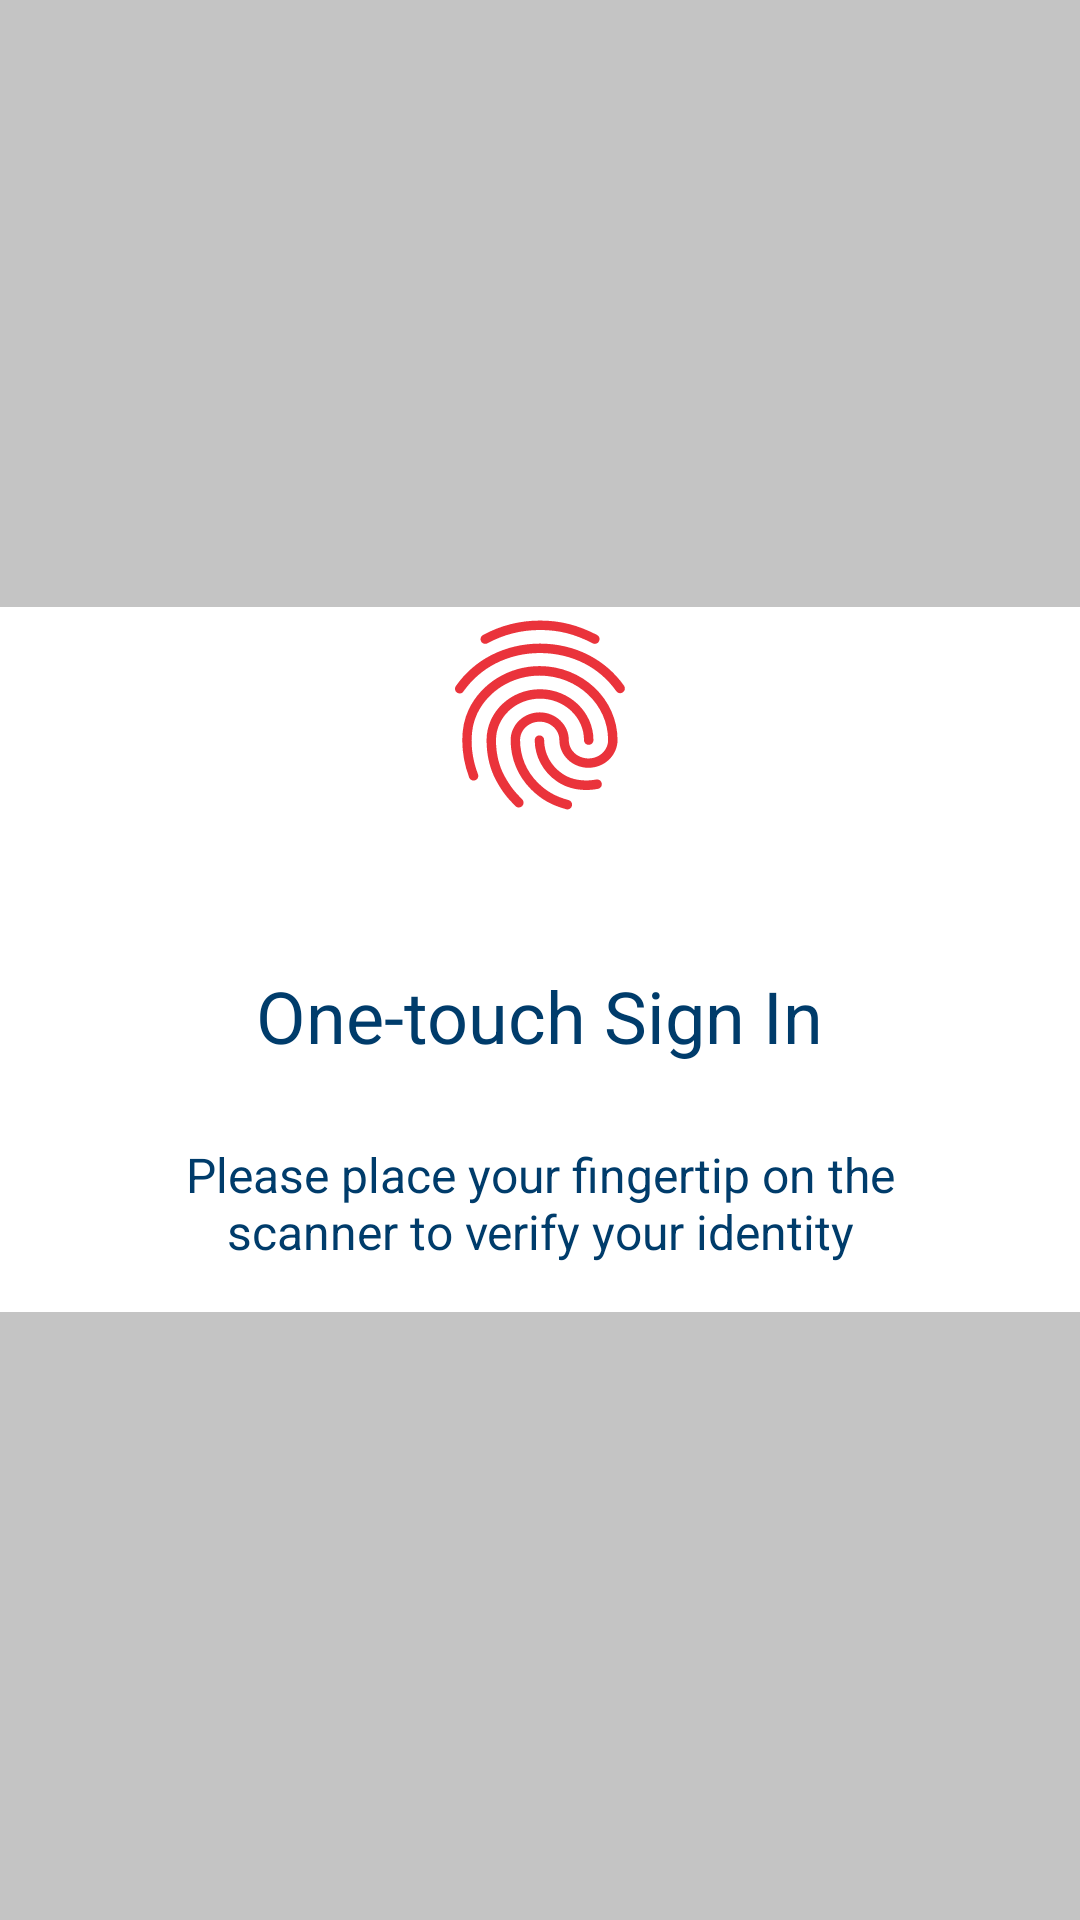

Icon bounding boxes for this 1080×1920 phone screenshot, format (x1, y1, x2, y2):
finger fail: (455, 620, 625, 810)
